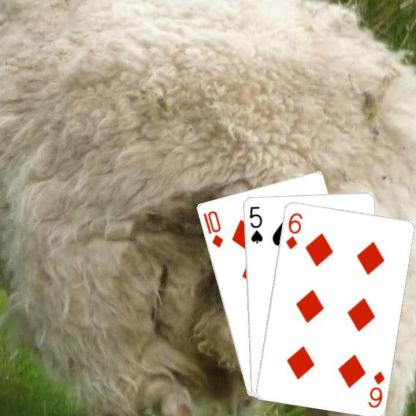10D: (200, 208, 224, 248)
5S: (247, 204, 264, 244)
6D: (365, 368, 386, 409), (283, 210, 303, 250)
